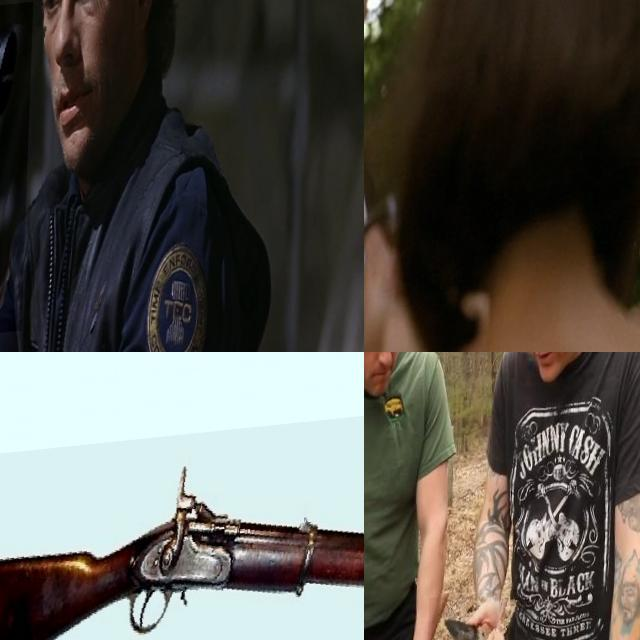-: (430, 597, 520, 640)
gun-knife-thesis - v11 Yolov5 augmented: (0, 410, 364, 640), (0, 7, 106, 352), (364, 43, 405, 159)
